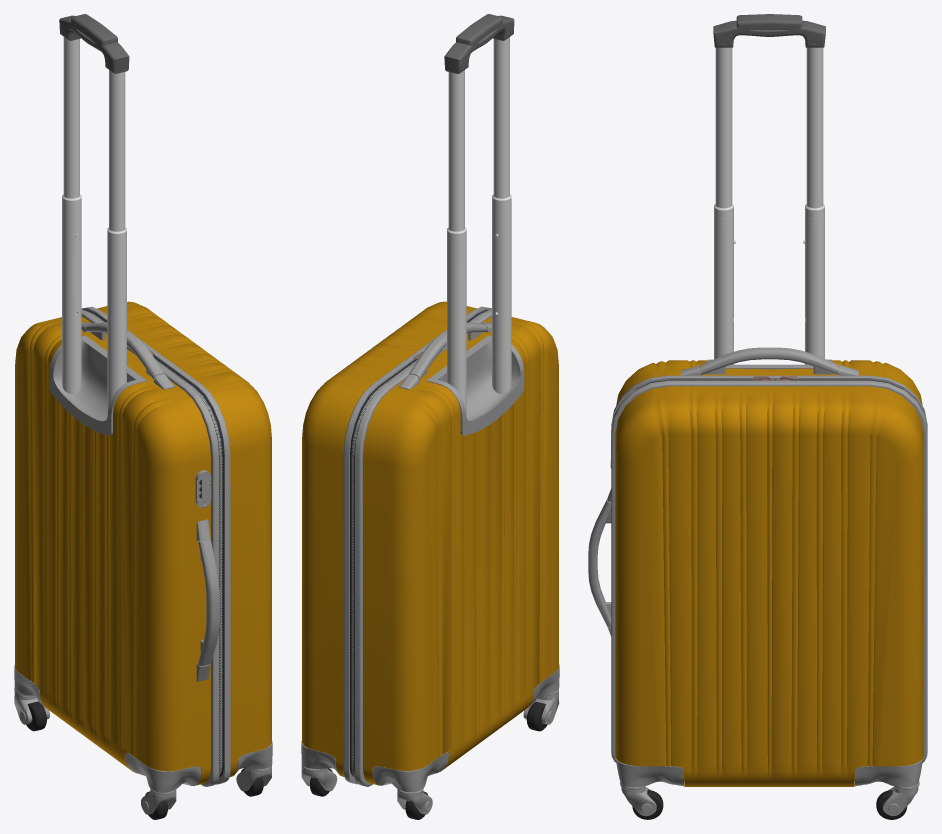
Rendered from nwbg002.glb.
3 renders of one model, left to right at view 1: azimuth 30°, elevation 25°; view 2: azimuth 150°, elevation 25°; view 3: azimuth 270°, elevation 25°, orthographic.
Visible parts, largest first — view 1: Kase, Truba02, Truba01, Vstavka, Plane.001, Ruchka.002, Plane.004, Ruchka.001, Cylinder.003, Cube; view 2: Kase, Truba02, Truba01, Vstavka, Plane.001, Plane.004, Ruchka.001, Cylinder.003; view 3: Kase, Truba02, Truba01, Plane.001, Ruchka.001, Ruchka.002, Plane.004, Cylinder.003.
Part boxes in pixels (<box>): Kase: <box>15,301,271,786</box>; Truba02: <box>59,14,129,231</box>; Truba01: <box>62,194,126,416</box>; Vstavka: <box>49,335,146,435</box>; Plane.001: <box>14,664,272,792</box>; Ruchka.002: <box>196,519,220,681</box>; Plane.004: <box>14,688,271,814</box>; Ruchka.001: <box>81,322,175,389</box>; Cylinder.003: <box>26,701,263,819</box>; Cube: <box>195,470,211,507</box>; Kase: <box>302,301,558,786</box>; Truba02: <box>444,14,514,231</box>; Truba01: <box>447,194,511,417</box>; Vstavka: <box>426,335,524,435</box>; Plane.001: <box>301,664,559,792</box>; Plane.004: <box>301,689,559,814</box>; Ruchka.001: <box>398,322,491,389</box>; Cylinder.003: <box>310,701,547,819</box>; Kase: <box>611,360,927,786</box>; Truba02: <box>713,14,825,208</box>; Truba01: <box>714,204,824,364</box>; Plane.001: <box>615,757,923,787</box>; Ruchka.001: <box>681,347,858,375</box>; Ruchka.002: <box>588,489,611,636</box>; Plane.004: <box>620,781,919,816</box>; Cylinder.003: <box>632,790,907,819</box>.
Size of the model in its own units: 2.46 by 14.18 by 5.79.
7 materials, 1 textured.
